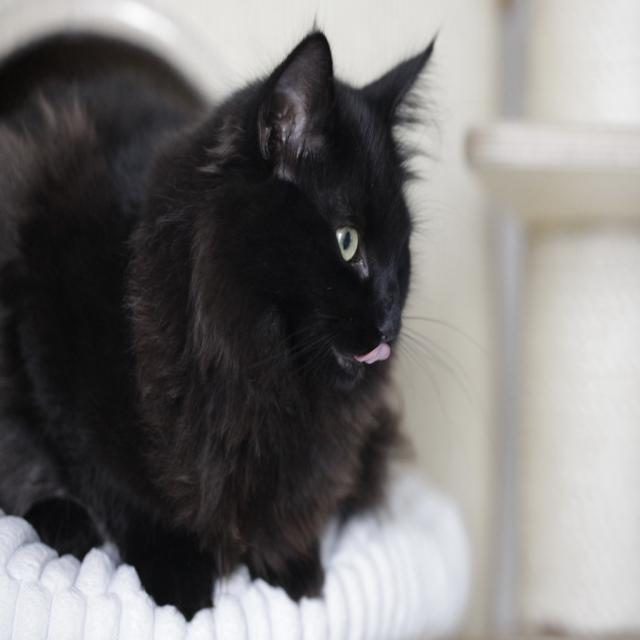Cat: (0, 2, 481, 618)
